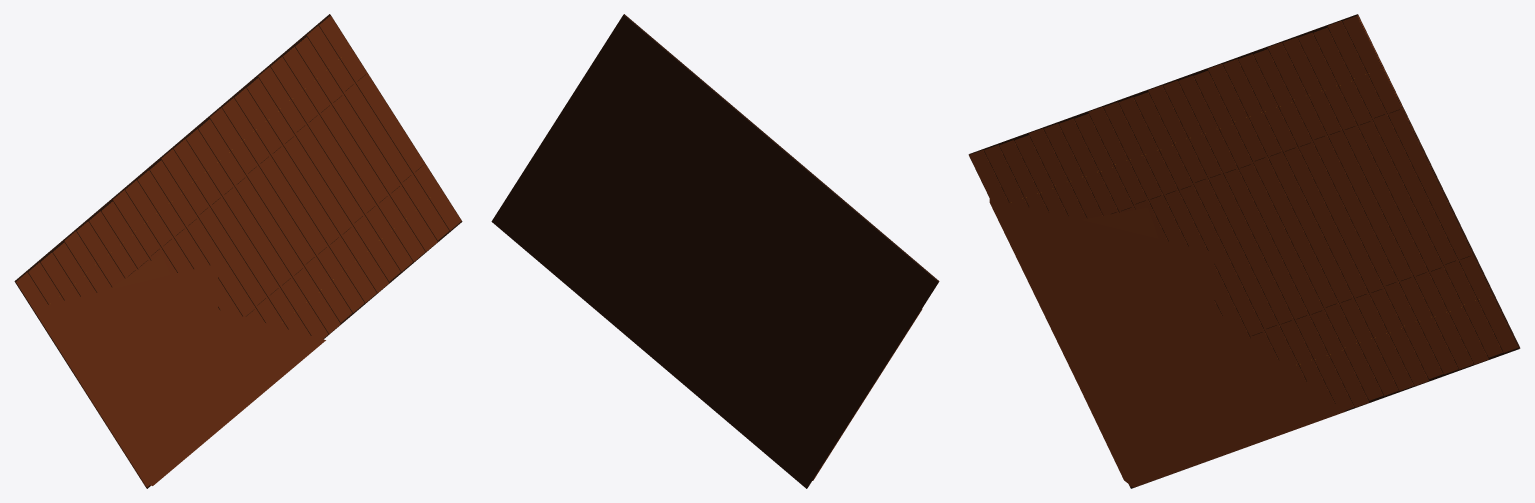
File: SM_LT_HubSlice_Apron.obj
3 renders of one model, left to right at view 1: azimuth 30°, elevation 25°; view 2: azimuth 150°, elevation 25°; view 3: azimuth 330°, elevation 25°, orthographic. The views are drawn at different scales.
Visible parts, largest first — view 1: SM_LT_HubSlice_Apron.001; view 2: SM_LT_HubSlice_Apron.001; view 3: SM_LT_HubSlice_Apron.001.
Part boxes in pixels (bbox=[...]): SM_LT_HubSlice_Apron.001: bbox=[14, 14, 462, 488]; SM_LT_HubSlice_Apron.001: bbox=[491, 14, 939, 488]; SM_LT_HubSlice_Apron.001: bbox=[968, 14, 1520, 488].
Bounding box in the file's own units: 2555 × 2346 × 34.03.
